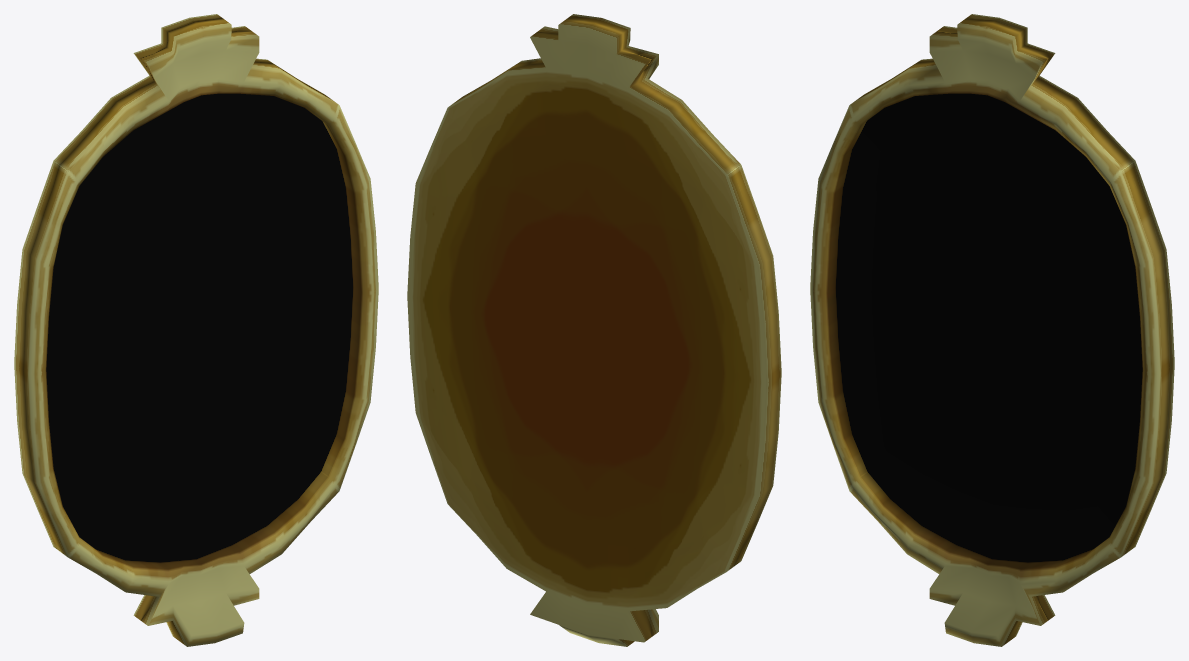
Rendered from frame_oval.fbx.
The picture shows the model from 3 angles, left to right: view 1: azimuth 30°, elevation 25°; view 2: azimuth 150°, elevation 25°; view 3: azimuth 330°, elevation 25°; orthographic projection. The views are drawn at different scales.
Visible parts, largest first — view 1: Frame1.003; view 2: Frame1.003; view 3: Frame1.003.
Boxes of the visible parts, bbox=[...] form: Frame1.003: bbox=[14, 14, 378, 646]; Frame1.003: bbox=[407, 14, 781, 646]; Frame1.003: bbox=[810, 14, 1174, 646].
Size of the model in its own units: 69.58 by 115 by 9.91.
Materials: 1 (1 with a texture image).
